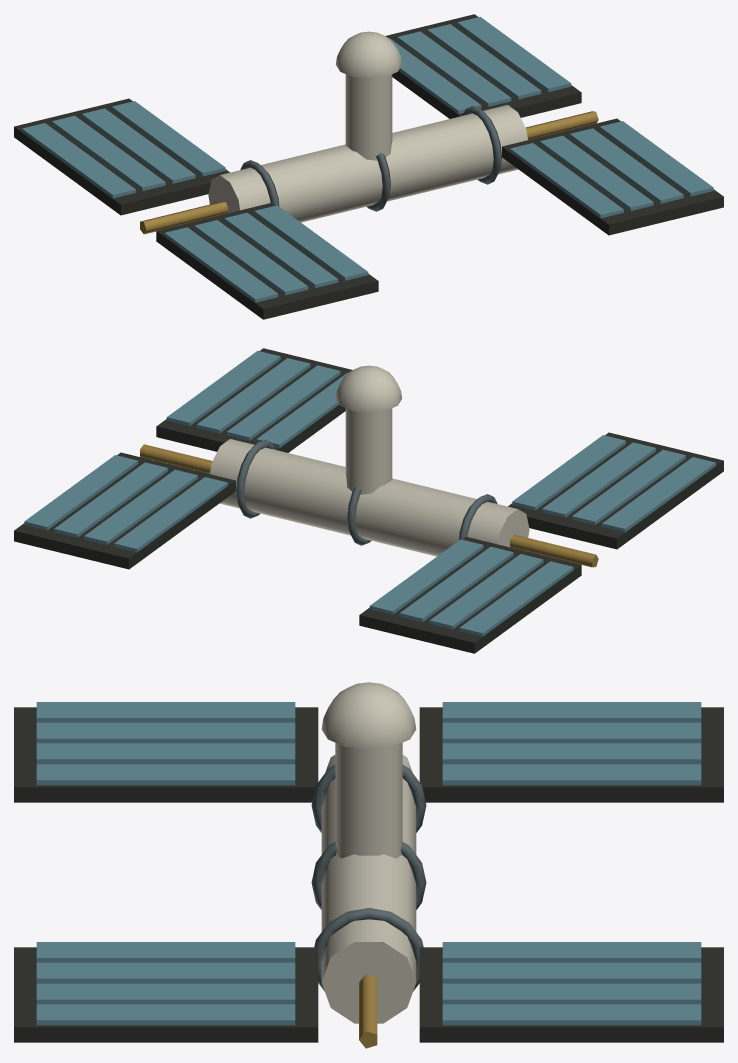
Rendered from custom-wonder-iss.glb.
3 renders of one model, top to bottom at view 1: azimuth 30°, elevation 25°; view 2: azimuth 150°, elevation 25°; view 3: azimuth 270°, elevation 25°, orthographic. The views are drawn at different scales.
Parts seen in each view (by area): view 1: custom-wonder-iss; view 2: custom-wonder-iss; view 3: custom-wonder-iss.
Boxes of the visible parts, box(x1,y1,x2,y2) form: custom-wonder-iss: box(14, 14, 723, 319); custom-wonder-iss: box(14, 348, 723, 653); custom-wonder-iss: box(14, 682, 723, 1048).
Bounding box in the file's own units: 1 × 0.3616 × 0.9375.
